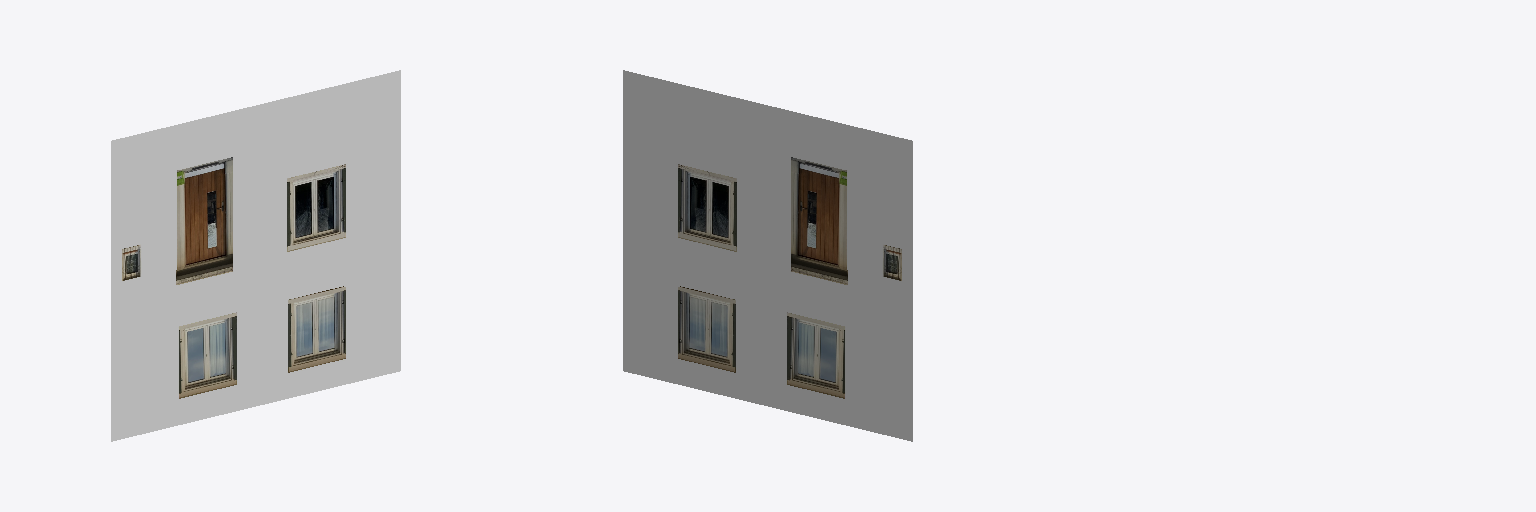
3 views of the same model, side by side, from view 1: azimuth 30°, elevation 25°; view 2: azimuth 150°, elevation 25°; view 3: azimuth 270°, elevation 25° (orthographic).
Size of the model in its own units: 1288 by 1282 by 0.
1 materials, 1 textured.